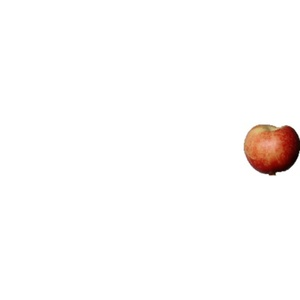nectarina: (244, 125, 300, 176)
